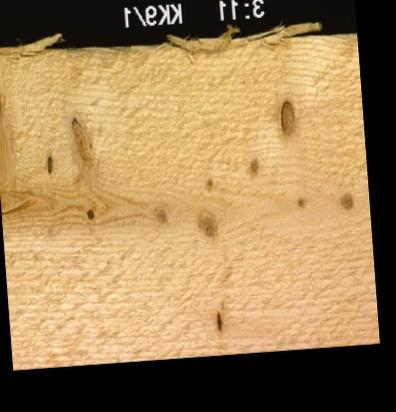dry_knot: (280, 98, 296, 135), (215, 308, 223, 331)
small_knot: (247, 155, 260, 180), (293, 192, 307, 209), (85, 206, 95, 219)
sound_knot: (195, 208, 219, 236), (155, 205, 168, 224), (342, 192, 354, 209), (201, 175, 213, 192)
